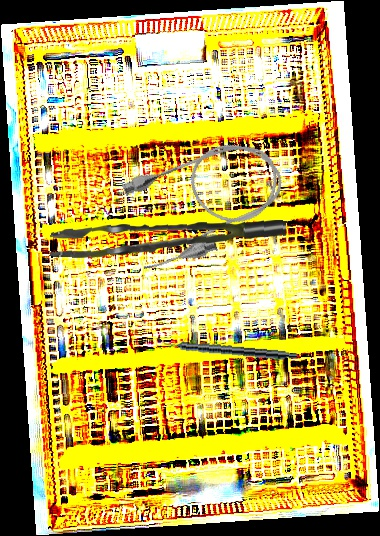Cannula: (109, 124, 299, 280)
Handpiece: (154, 336, 299, 362)
Tissue Forceps: (49, 208, 287, 269)
